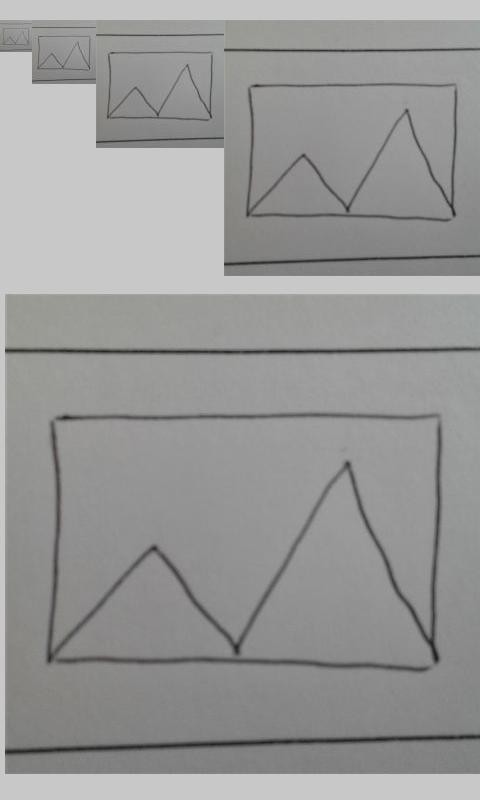image_view: (42, 409, 447, 673), (244, 80, 459, 226), (107, 50, 214, 122), (37, 35, 91, 71), (2, 27, 30, 46)
